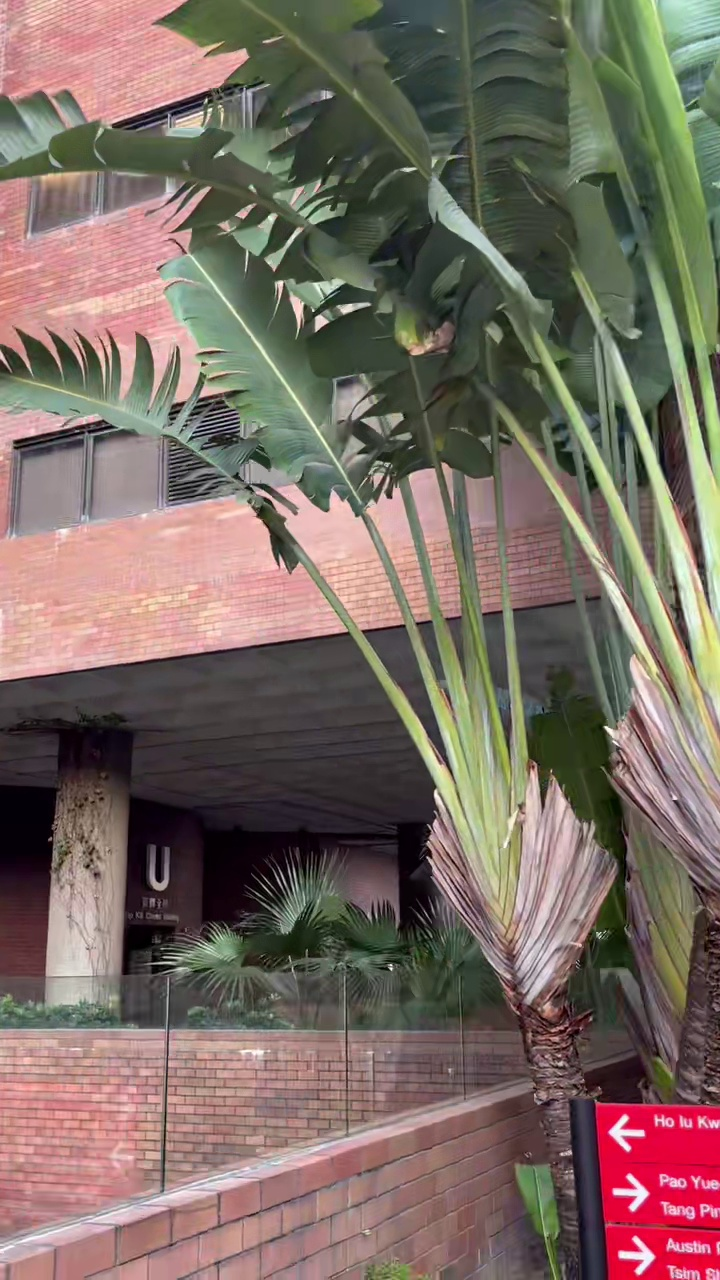Travellers-tree: (2, 0, 719, 1279)
